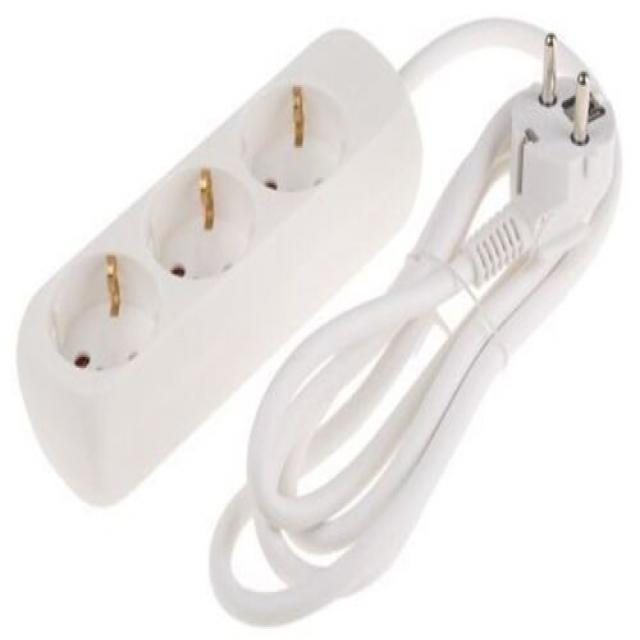typeb: (29, 32, 390, 424)
